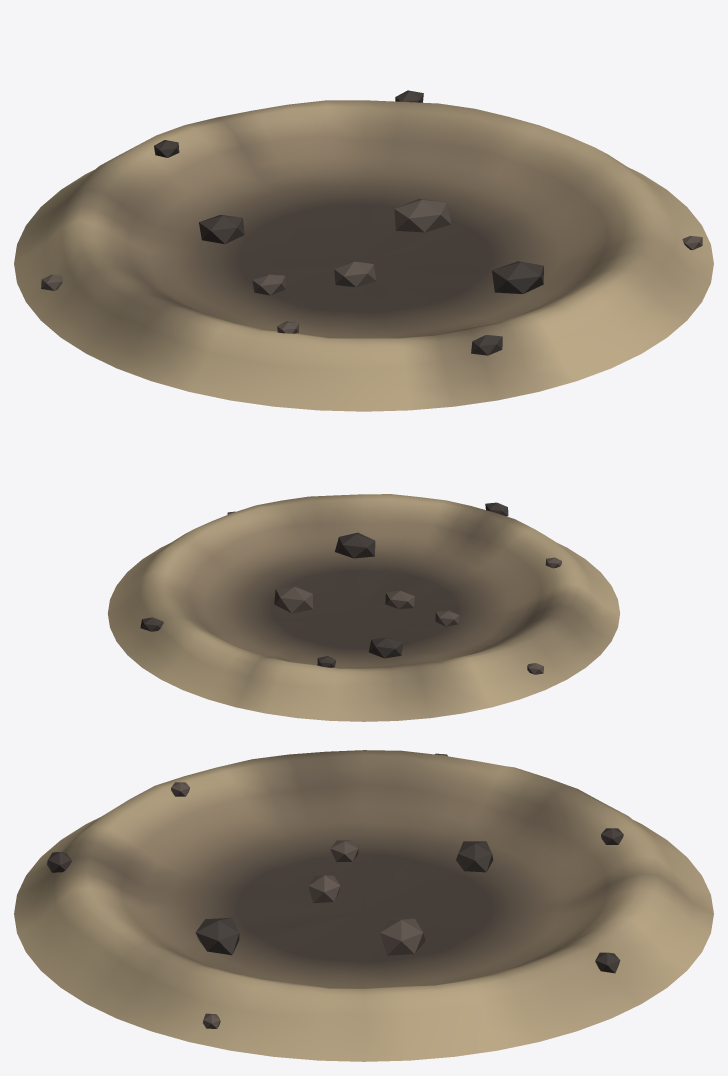
File: crater.glb
3 views of the same model, one above another, from view 1: azimuth 30°, elevation 25°; view 2: azimuth 150°, elevation 25°; view 3: azimuth 270°, elevation 25° (orthographic). The views are drawn at different scales.
Parts seen in each view (by area): view 1: Crater; view 2: Crater; view 3: Crater.
Part boxes in pixels (x1,y1,x2,y2): Crater: (14,90,713,411); Crater: (107,494,620,721); Crater: (14,750,713,1061).
Size of the model in its own units: 8 by 0.6628 by 8.
